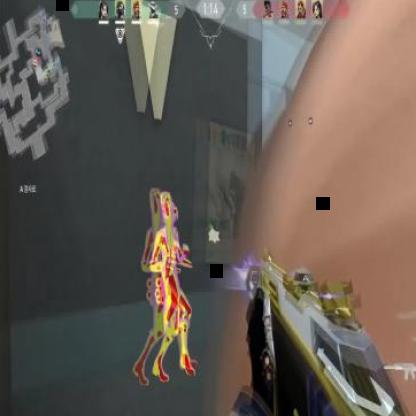enemy: (134, 186, 200, 385)
enemy_head: (162, 199, 176, 227)
